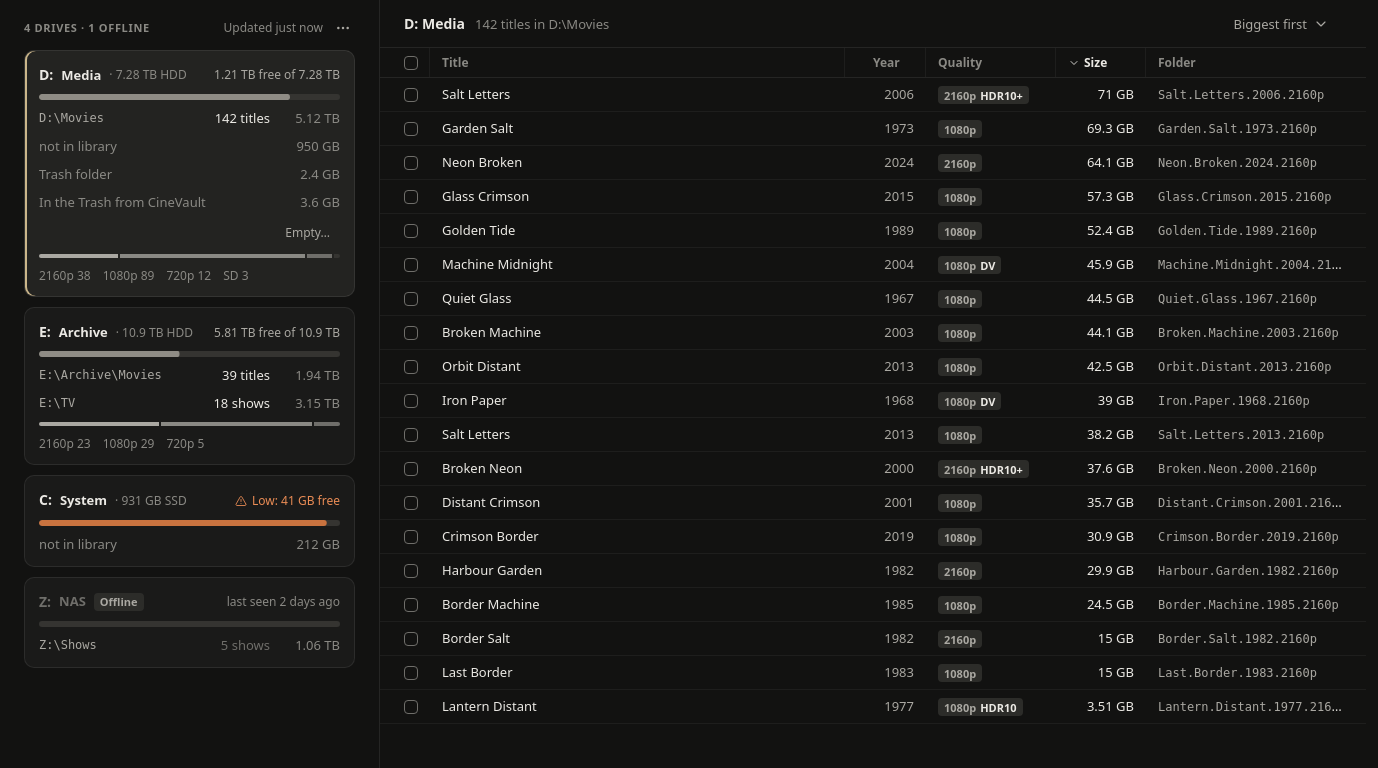
Test: the titles of a drive › shows the selection bar with the count and size, Move to and Delete
This screenshot has width=1378, height=768.
What coordinates should you click on to do the following:
click the checkbox named "Select Salt Letters" in the row of "71 GB"
I would click on:
 (411, 94)
Its box is [404,88,418,102].
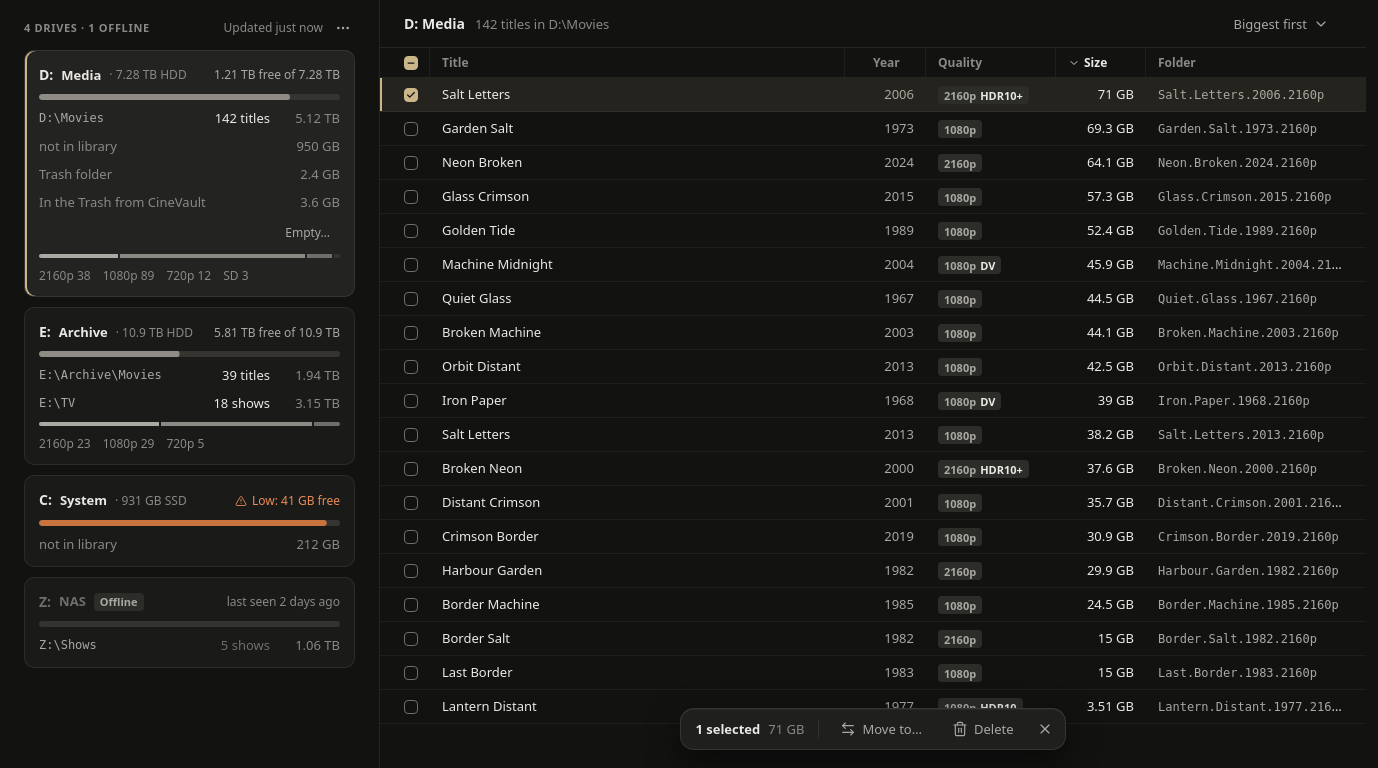
What coordinates should you click on to do the following:
click the checkbox named "Select Garden Salt"
I would click on:
 (411, 128)
Its box is [404,122,418,136].
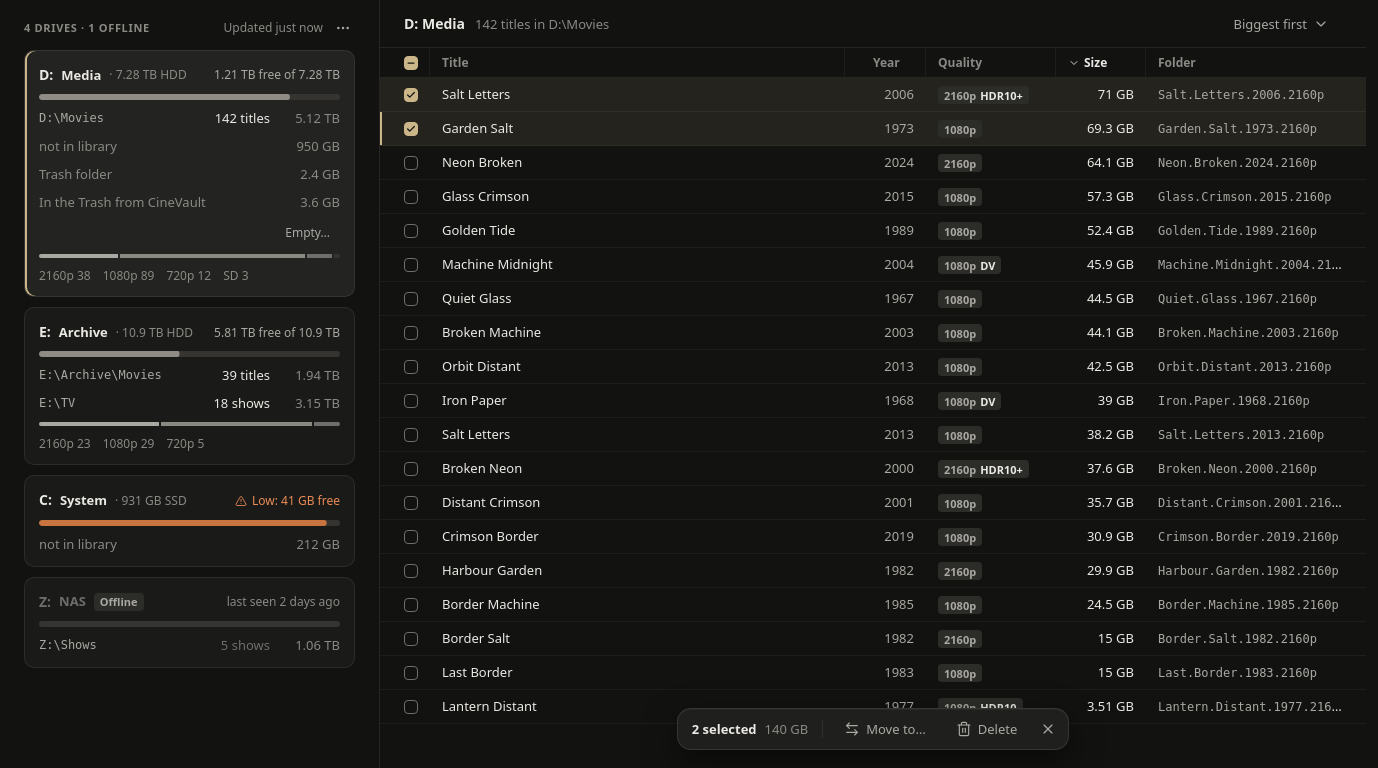
What coordinates should you click on to do the following:
click the checkbox named "Select Neon Broken"
I would click on:
 (411, 162)
Its box is [404,156,418,170].
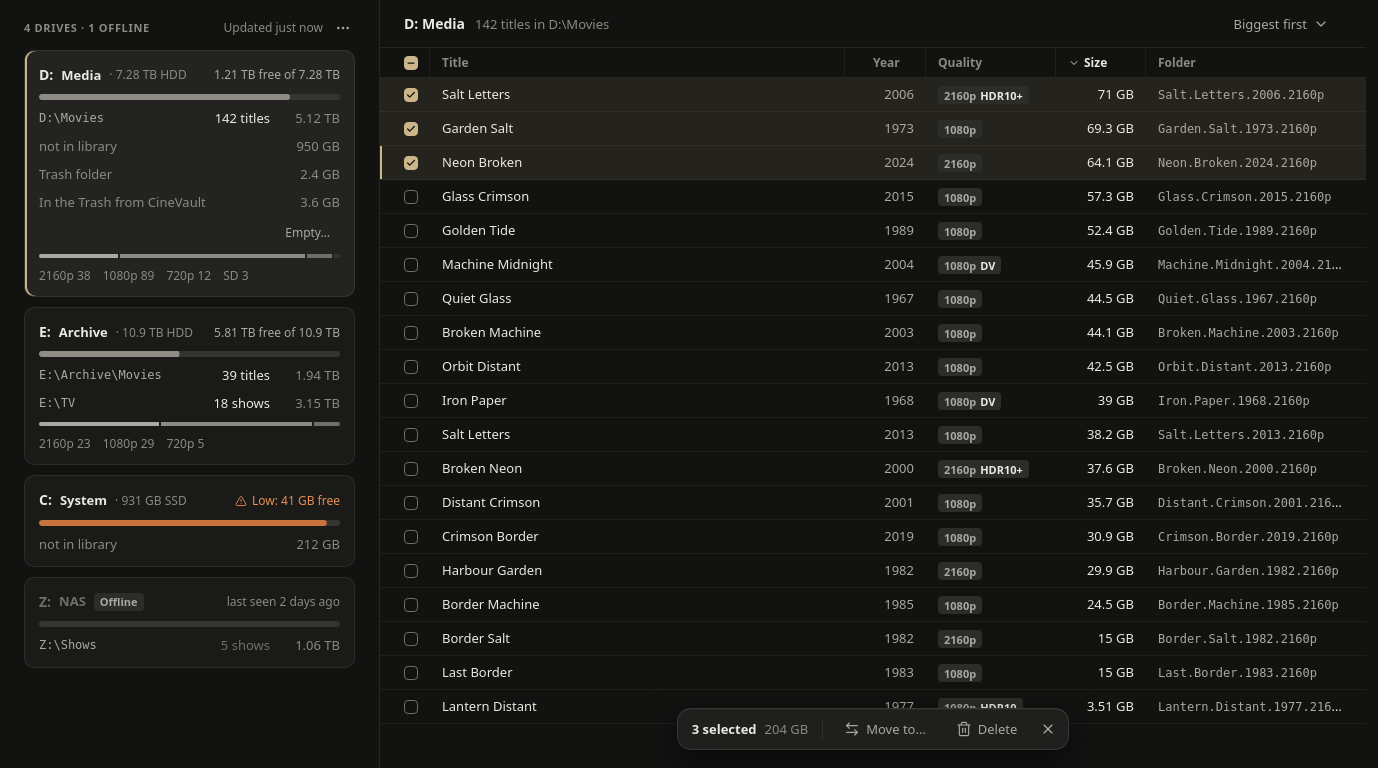
Check: the button "Move to…" is enabled, box [831,715,939,743]
Check: the button "Delete" is shown, box [943,715,1030,743]
Check: the text "3 selected" is shown, box [692,720,757,738]
